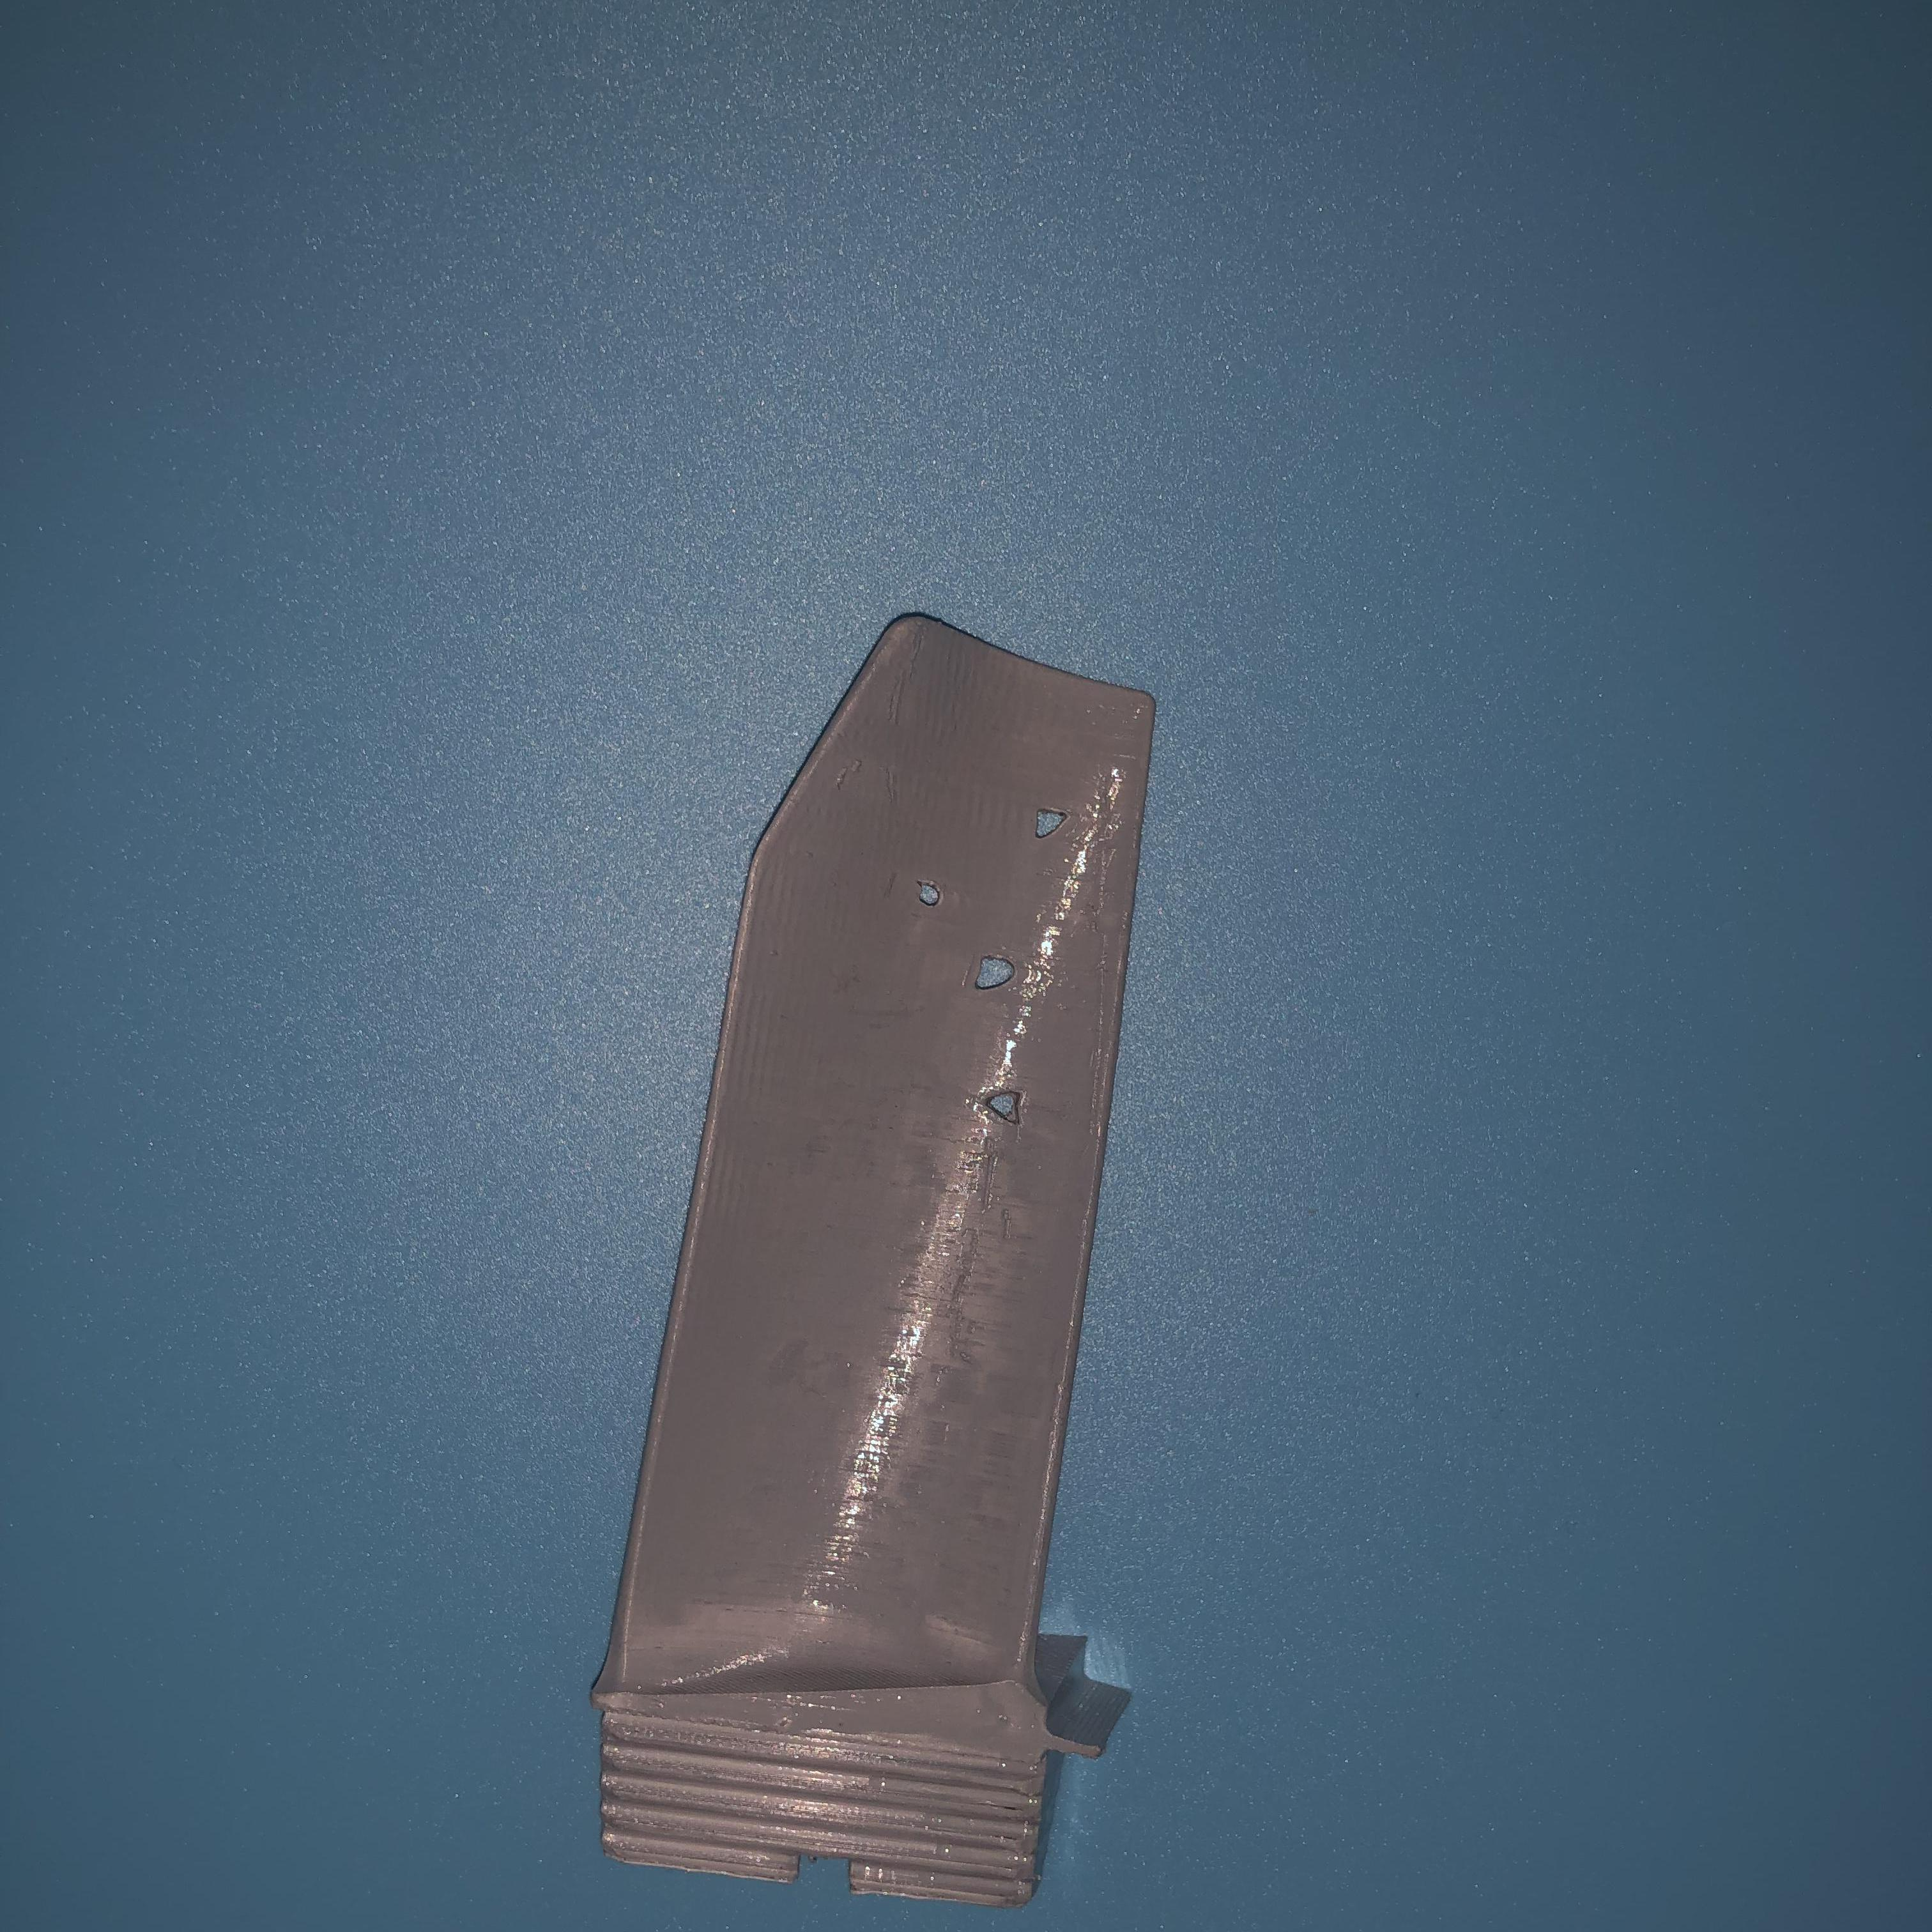breakdown: (973, 941, 1039, 1134), (1033, 796, 1085, 853), (909, 874, 954, 908)
